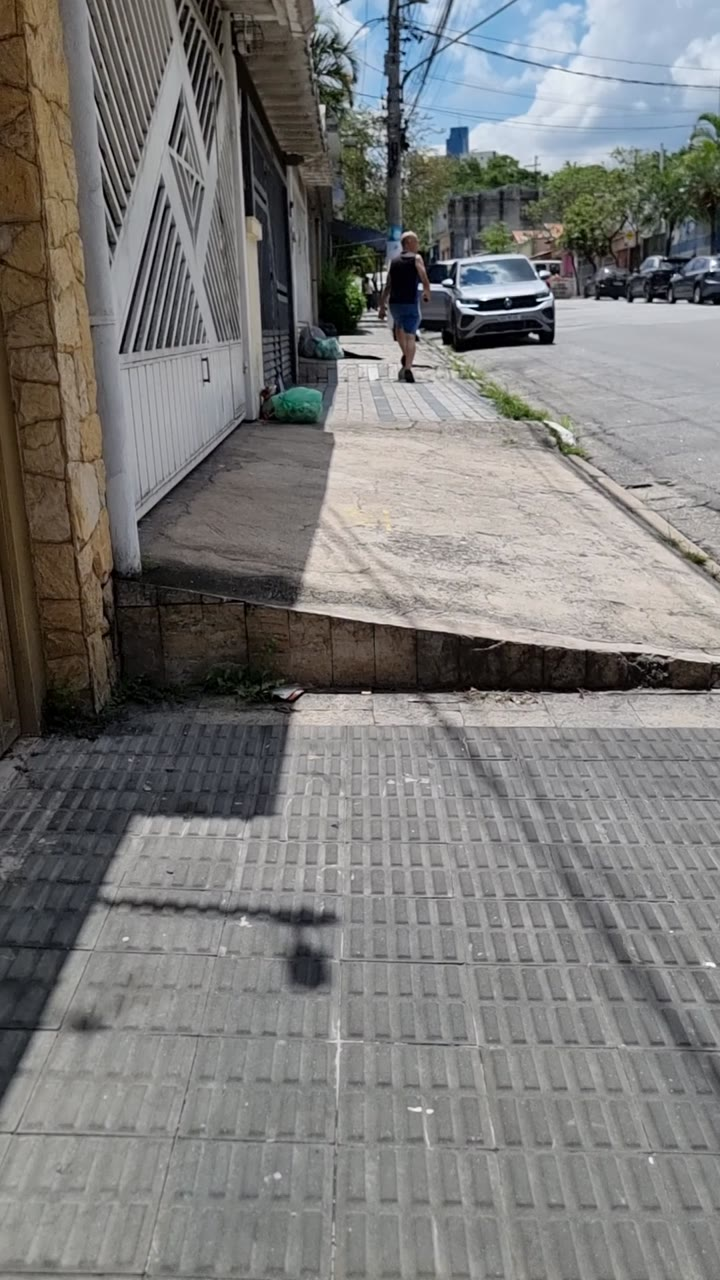desnivel: (108, 627, 720, 730)
obstaculo: (269, 387, 322, 423)
